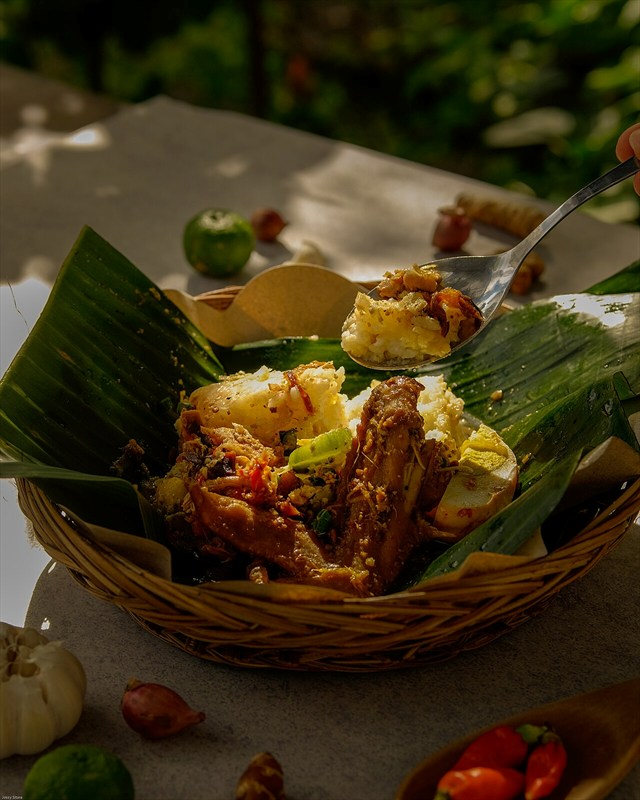Telur Balado: (18, 139, 586, 581)
